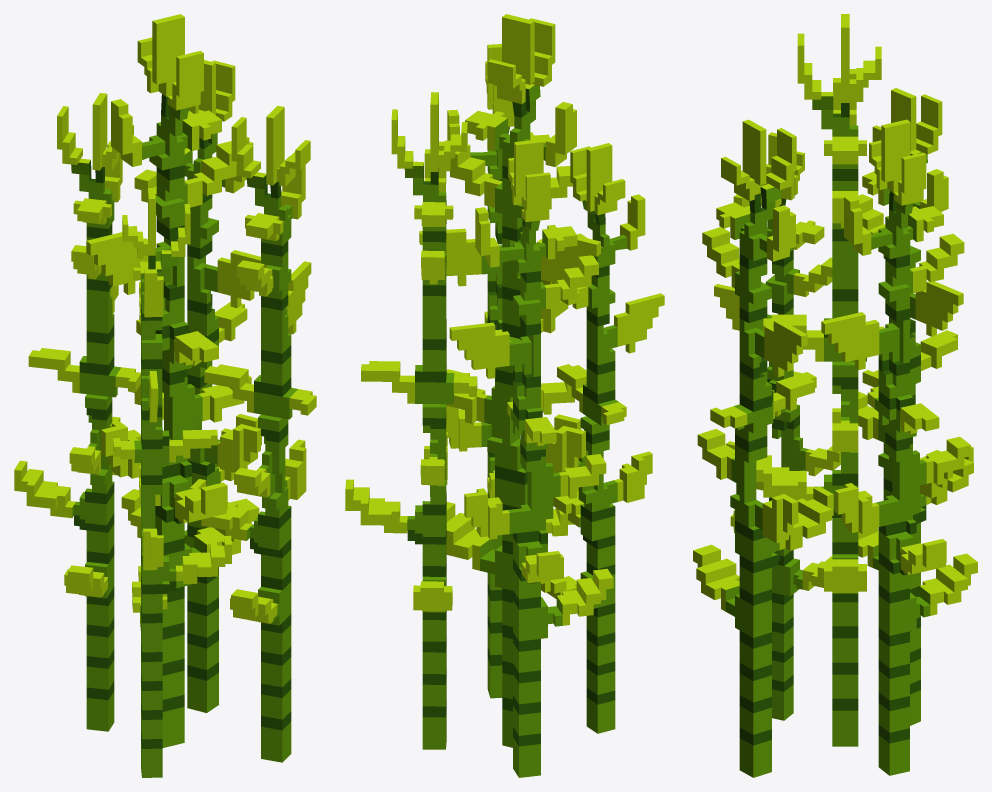
File: бамбук.fbx
3 renders of one model, left to right at view 1: azimuth 30°, elevation 25°; view 2: azimuth 150°, elevation 25°; view 3: azimuth 270°, elevation 25°, orthographic.
Visible parts, largest first — view 1: Cube.004; view 2: Cube.004; view 3: Cube.004.
Part boxes in pixels (x1=…): Cube.004: x1=14, y1=14, x2=316, y2=777; Cube.004: x1=345, y1=14, x2=664, y2=777; Cube.004: x1=693, y1=14, x2=977, y2=777.
Size of the model in its own units: 76.88 by 231 by 82.61.
